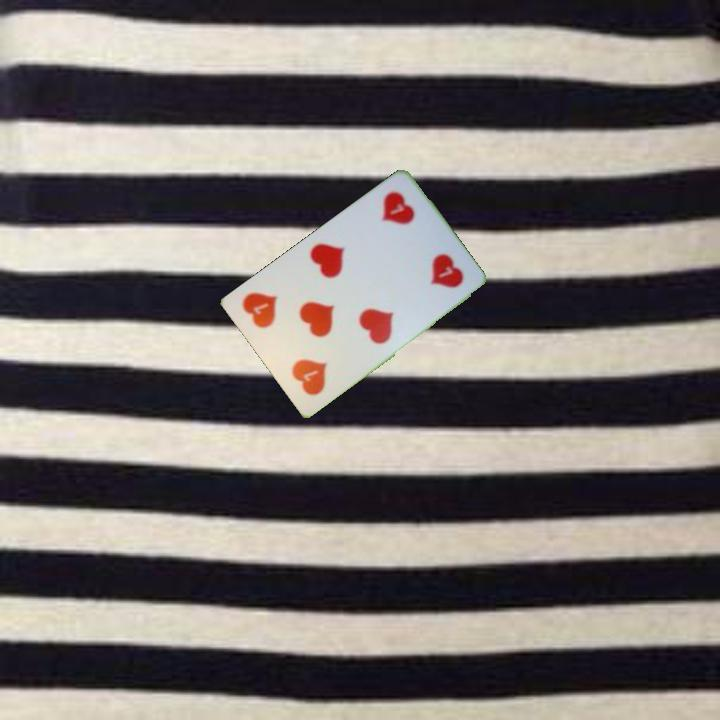h_7.png: (357, 180, 441, 266), (269, 319, 353, 405)
